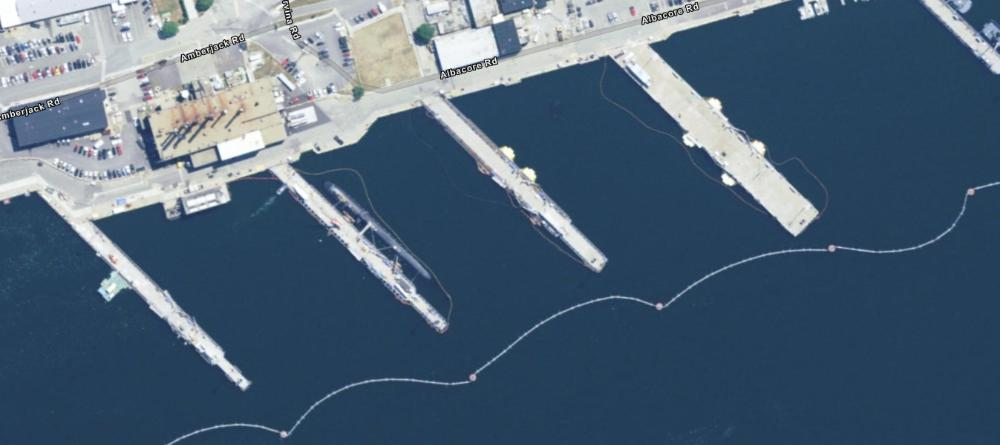submarine: (318, 175, 449, 295)
